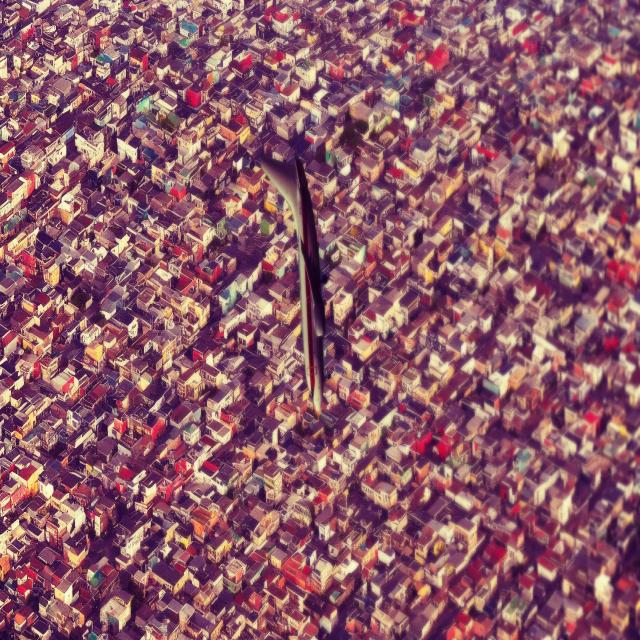airplane: (255, 144, 328, 418)
